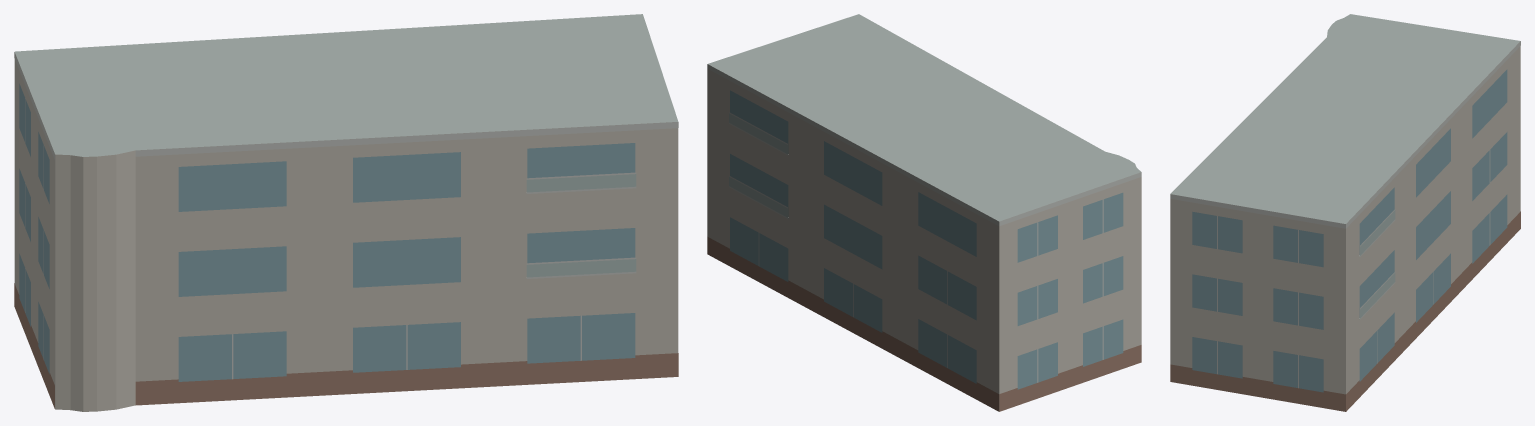
Rendered from survey-upis-32729222.glb.
The picture shows the model from 3 angles, left to right: view 1: azimuth 30°, elevation 25°; view 2: azimuth 150°, elevation 25°; view 3: azimuth 270°, elevation 25°; orthographic projection. The views are drawn at different scales.
Visible parts, largest first — view 1: survey-upis-32729222.tmp; view 2: survey-upis-32729222.tmp; view 3: survey-upis-32729222.tmp.
Boxes of the visible parts, x1,y1,x2,y2 form: survey-upis-32729222.tmp: (14, 14, 678, 411); survey-upis-32729222.tmp: (707, 14, 1141, 411); survey-upis-32729222.tmp: (1170, 14, 1520, 411).
Bounding box in the file's own units: 23.53 × 9.8 × 16.59.
